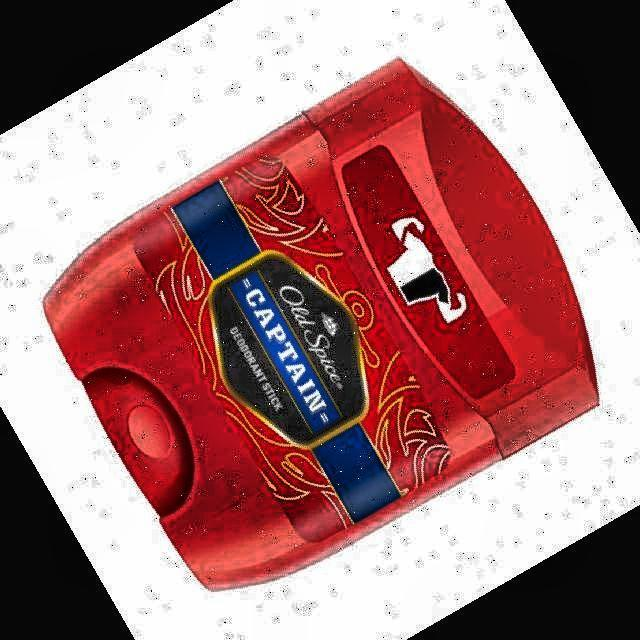plastic: (45, 60, 598, 589)
